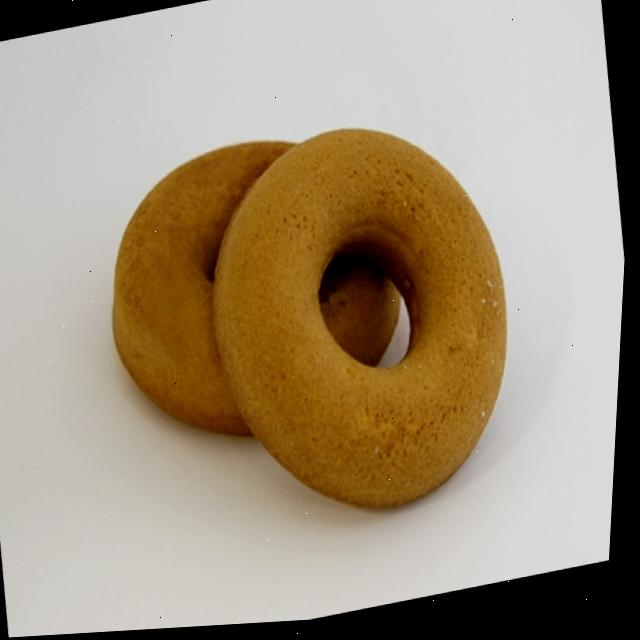炸货点心: (36, 40, 557, 591)
